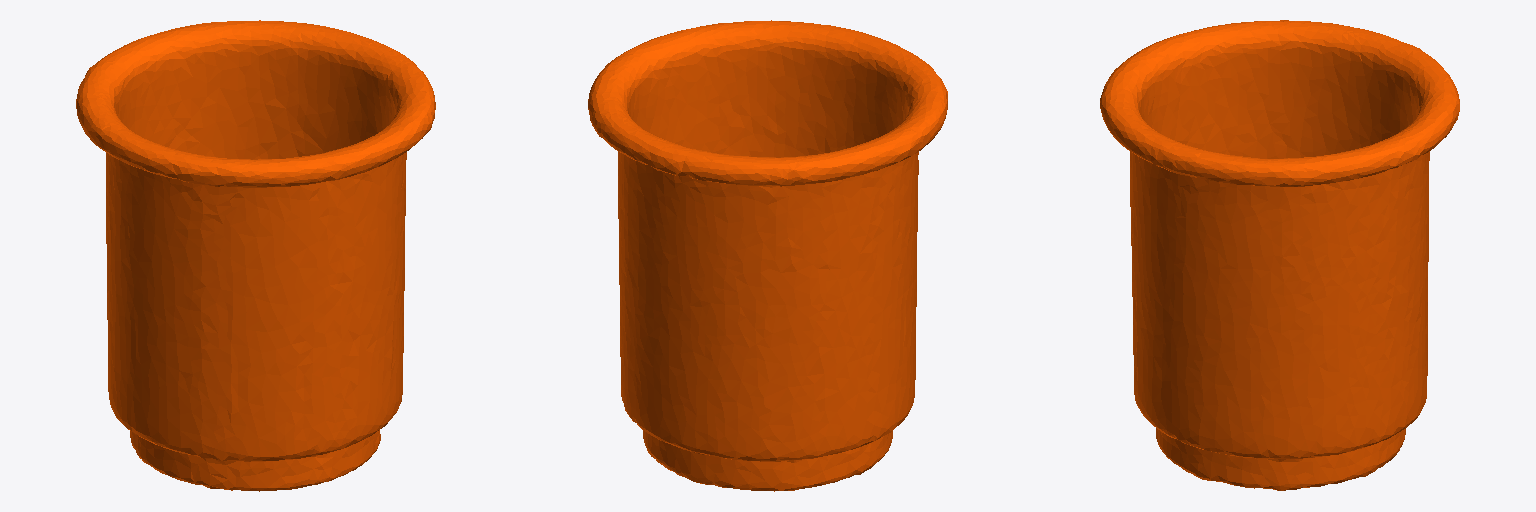
robot.urdf — 065-a_cups:
<?xml version="1.0" ?>
<robot name="065-a_cups">
   <material name="obj_color">
      <color rgba="1.0 0.423529411765 0.0392156862745 1.0"/>
   </material>
   <link name="top">
      <inertial>
         <origin rpy="2.096943111165045e-05 2.515735244844659e-05 2.539234095011987e-05" xyz="0.001138345375943143 0.002215610243994105 -7.090200497987764e-05"/>
         <mass value="0.04576297378837105"/>
         <inertia ixx="2.531098819592782e-05" ixy="-1.931820786080358e-07" ixz="3.937961079241743e-07" iyy="2.49302955656043e-05" iyz="1.020623716006299e-06" izz="2.127784074868478e-05"/>
      </inertial>
      <visual>
         <origin rpy="0 0 0" xyz="0 0 0"/>
         <geometry>
            <mesh filename="top_watertight_tiny.stl" scale="1 1 1"/>
         </geometry>
         <material name="obj_color"/>
      </visual>
      <collision>
         <origin rpy="0 0 0" xyz="0 0 0"/>
         <geometry>
            <mesh filename="top_watertight_tiny.obj" scale="1 1 1"/>
         </geometry>
      </collision>
   </link>
   <link name="bottom">
      <inertial>
         <origin rpy="1.633333333199431e-08 1.633333333199431e-08 1.633333333362855e-08" xyz="0.3464080000000008 0.3464080000000008 0.3464080000000008"/>
         <mass value="0.0009800000000000017"/>
         <inertia ixx="1.633333333253906e-08" ixy="5.447480642029219e-19" ixz="5.447480642029219e-19" iyy="1.633333333253906e-08" iyz="5.447480642029219e-19" izz="1.633333333253906e-08"/>
      </inertial>
      <visual>
         <origin rpy="0 0 0" xyz="0 0 0"/>
         <geometry>
            <mesh filename="bottom_watertight_tiny.stl" scale="1 1 1"/>
         </geometry>
         <material name="obj_color"/>
      </visual>
   </link>
   <link name="world"/>
   <joint name="world_to_base" type="fixed">
      <origin xyz="0 0 0"/>
      <axis xyz="0 0 0"/>
      <parent link="world"/>
      <child link="bottom"/>
   </joint>
   <joint name="rotation" type="revolute">
      <origin xyz="0 0 0"/>
      <axis xyz="0 0 -1"/>
      <parent link="bottom"/>
      <child link="top"/>
      <dynamics damping="1.0" friction="1.0"/>
      <limit effort="0.1" velocity="0.1" lower="0" upper="0.001"/>
   </joint>
</robot>

--- Facts derived from the render (not from the file) ---
The picture shows the robot from 3 angles, left to right: view 1: azimuth 30°, elevation 25°; view 2: azimuth 150°, elevation 25°; view 3: azimuth 270°, elevation 25°; orthographic projection.
Model 065-a_cups with 3 links and 2 joints (1 revolute, 1 fixed), rooted at world, posed all joints at 0.
Visible links, largest first — view 1: top; view 2: top; view 3: top.
Boxes of the visible links, <box> form: top: <box>76,20,435,491</box>; top: <box>588,20,947,491</box>; top: <box>1100,20,1459,490</box>.
Bounding box of the posed robot: 0.0571 × 0.0574 × 0.0615 m (x, y, z).
Meshes: 2 distinct files referenced, 1 mesh visuals loaded (1 binary STL); not drawn: 1 (reference not matched to a file when rendering).
